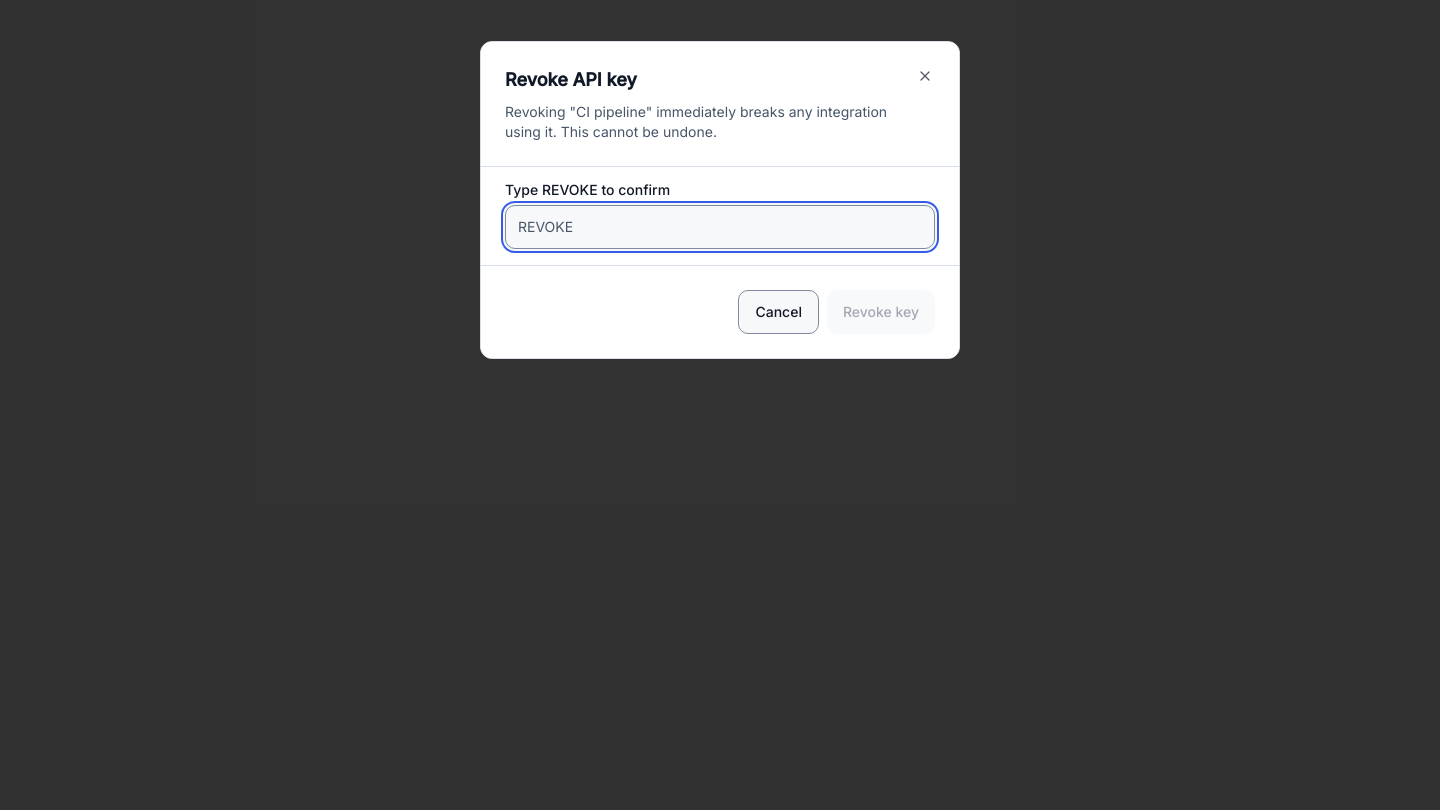
Test: RevokeApiKeyDialog › keeps the revoke button disabled until the confirm word is typed
Expected: the button "Revoke key" is disabled, [827, 290, 935, 334]
In the field labelled "Type REVOKE to confirm": (720, 226) [505, 204, 935, 248], type "nope"
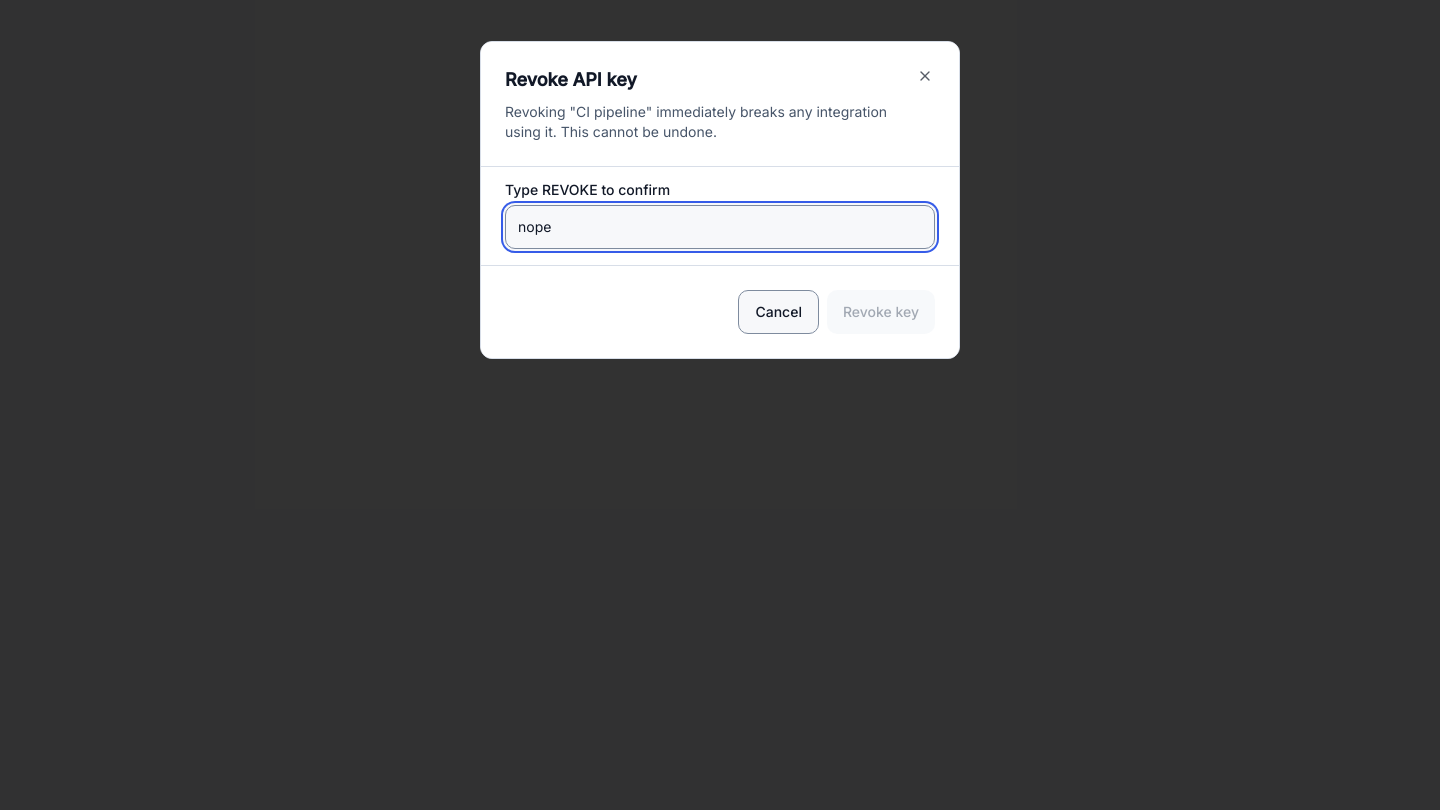
Expected: the button "Revoke key" is disabled, [827, 290, 935, 334]
Case-insensitive match.
Replace the text in the field labelled "Type REVOKE to confirm" with "revoke": (720, 226) [505, 204, 935, 248]
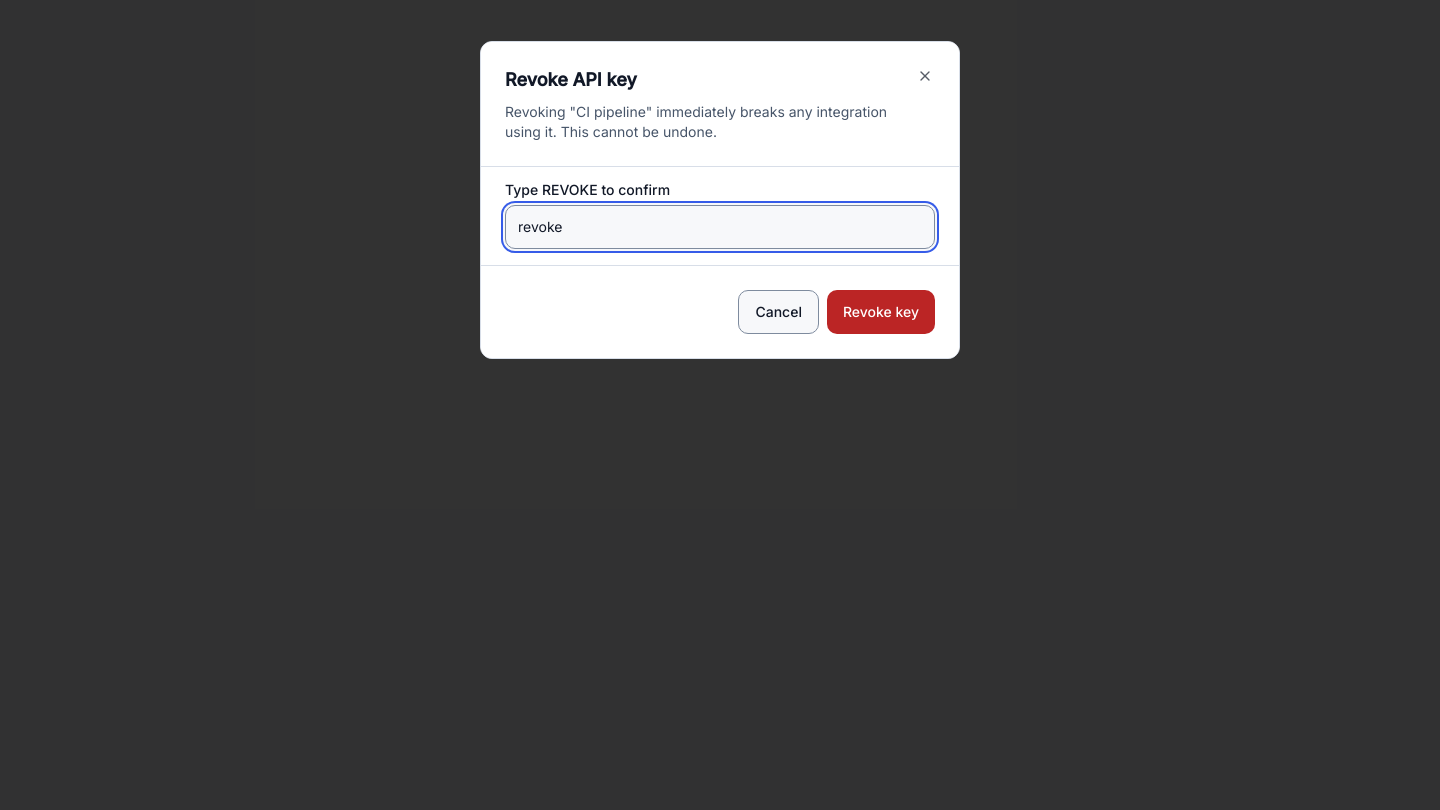
Result: the button "Revoke key" is enabled at [827, 290, 935, 334]
